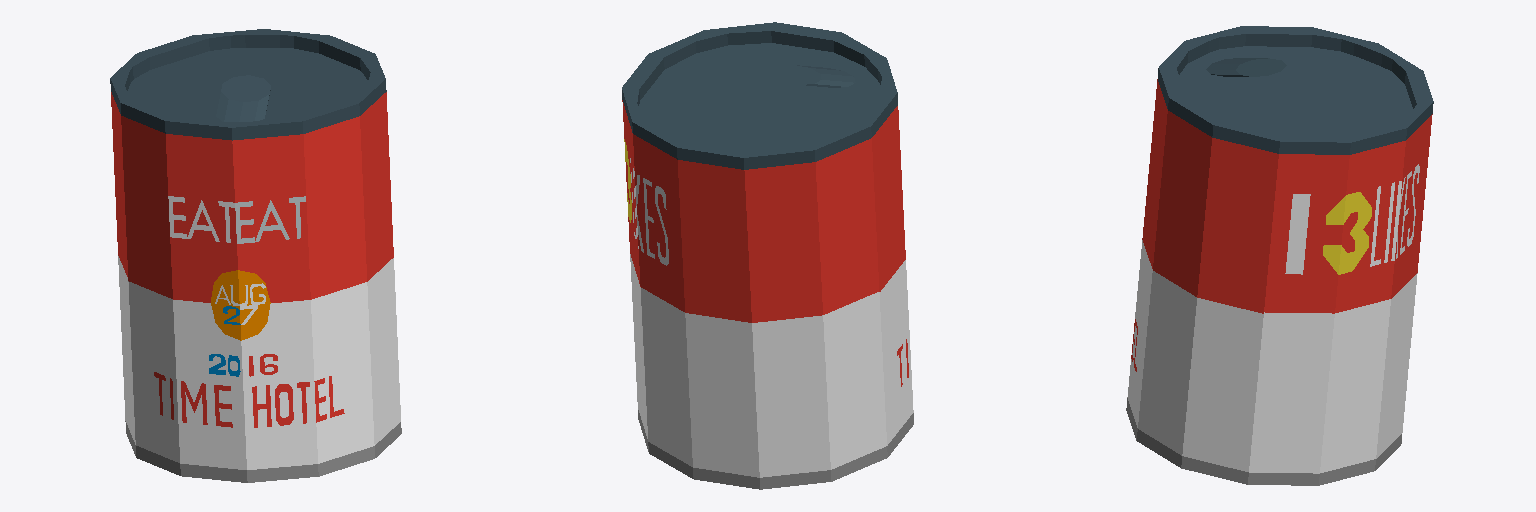
Rendered from Can.obj.
The picture shows the model from 3 angles: view 1: azimuth 30°, elevation 25°; view 2: azimuth 150°, elevation 25°; view 3: azimuth 270°, elevation 25°; orthographic projection.
Parts seen in each view (by area): view 1: group[number redacted], group[number redacted]; view 2: group[number redacted], group[number redacted]; view 3: group[number redacted], group[number redacted].
Part boxes in pixels (x1,y1,x2,y2): group[number redacted]: (110,29,401,482); group[number redacted]: (216,75,270,121); group[number redacted]: (622,22,913,489); group[number redacted]: (772,65,855,87); group[number redacted]: (1126,26,1433,485); group[number redacted]: (1206,58,1286,76).
Size of the model in its own units: 0.4936 by 0.7183 by 0.5487.